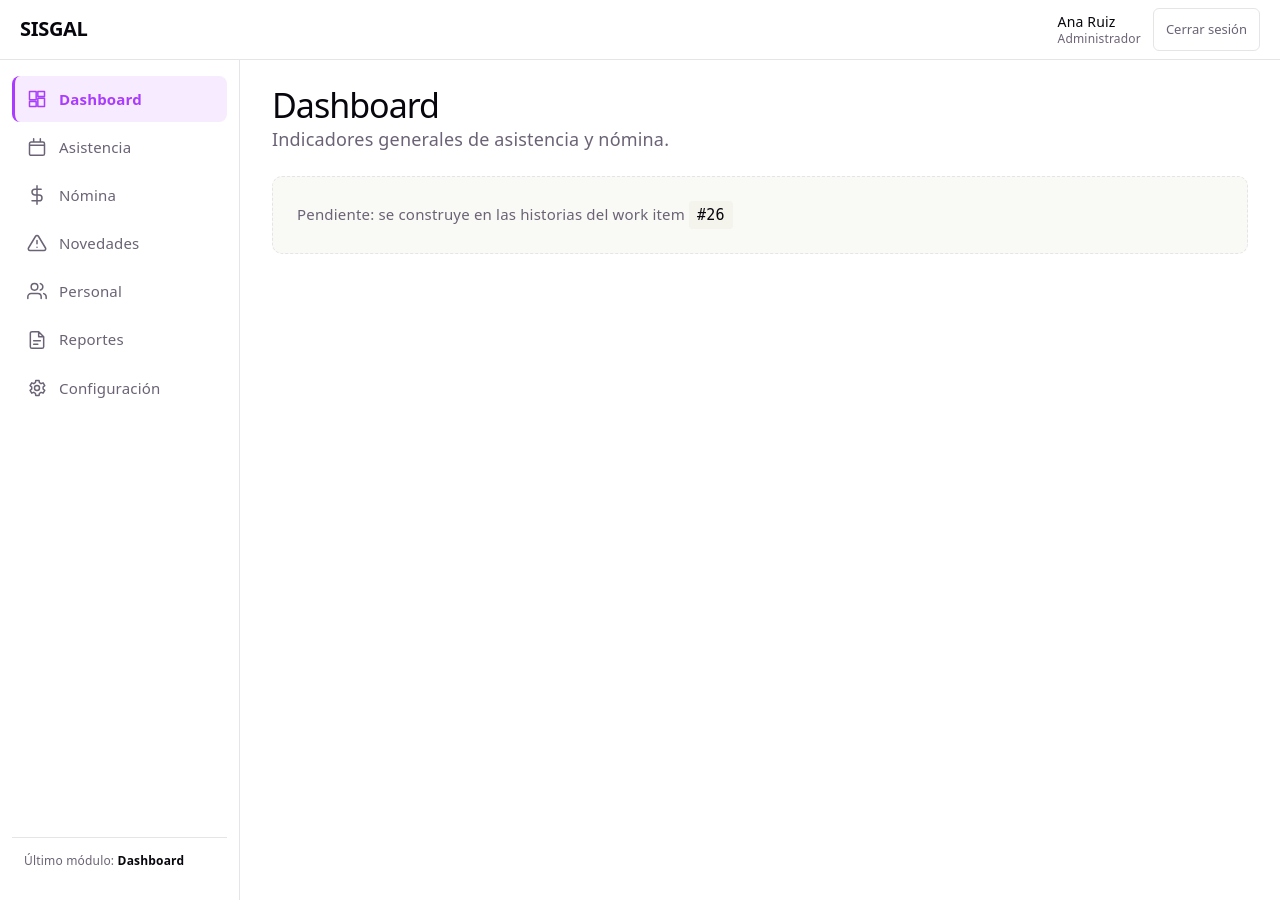
Scenario: Navegación entre módulos › carga el módulo elegido y actualiza la URL
Step 1. Click the link "Nómina" → (72, 195), box [27, 185, 116, 205]
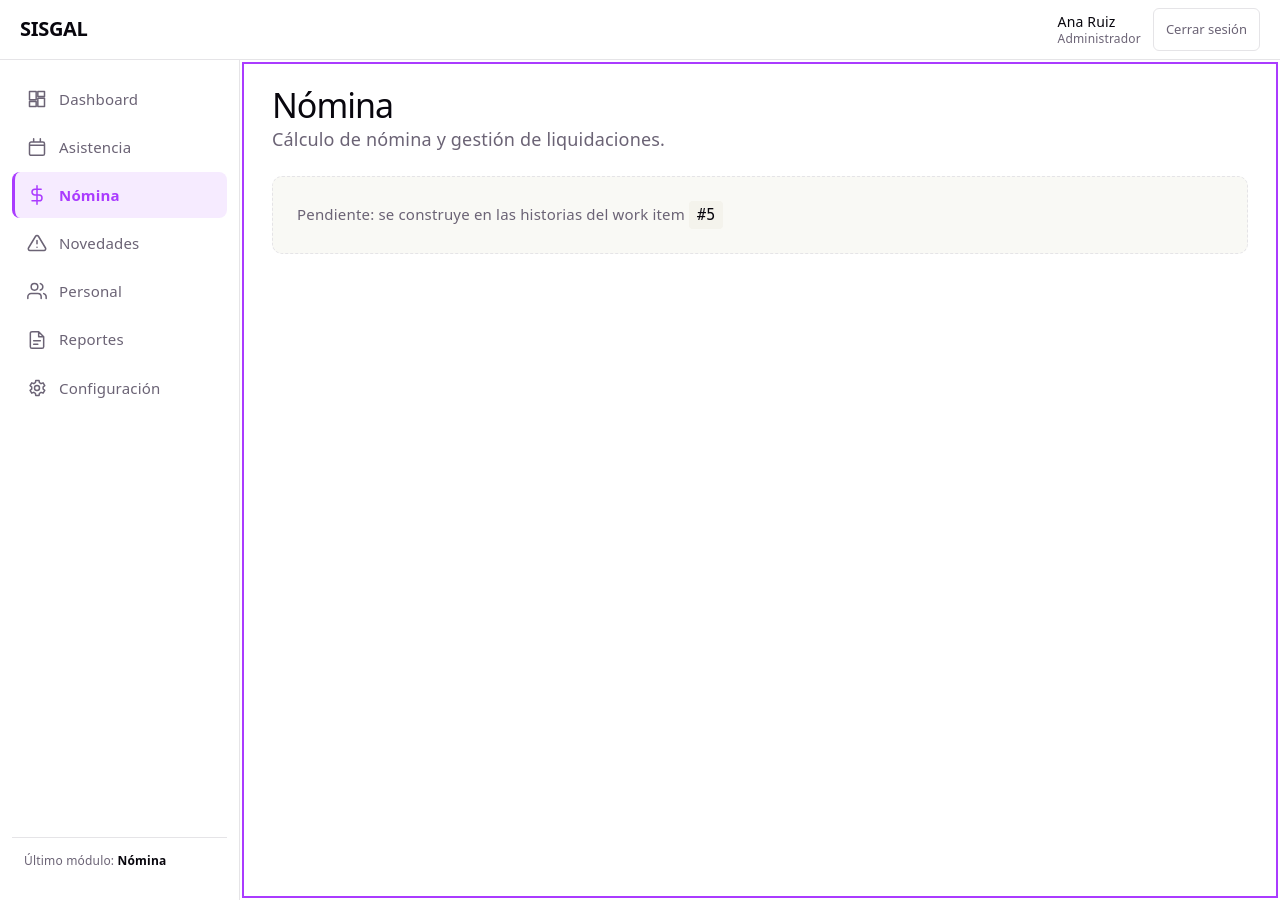
Expected: the heading reads "Nómina", [272, 82, 393, 128]
